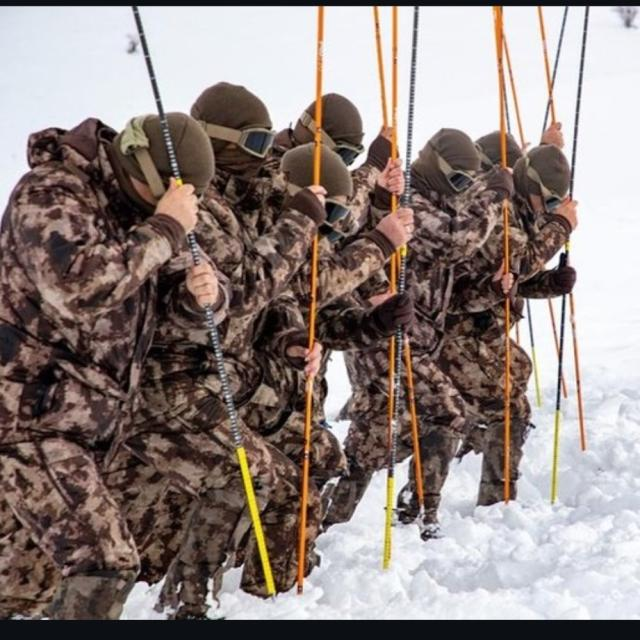poh_personel: (2, 110, 217, 619), (323, 128, 483, 534)
